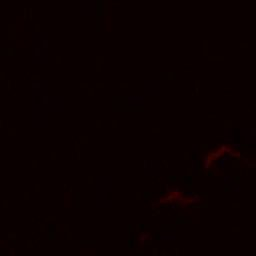debris: (155, 191, 204, 202), (136, 231, 155, 246), (214, 143, 232, 155), (206, 156, 214, 172)
